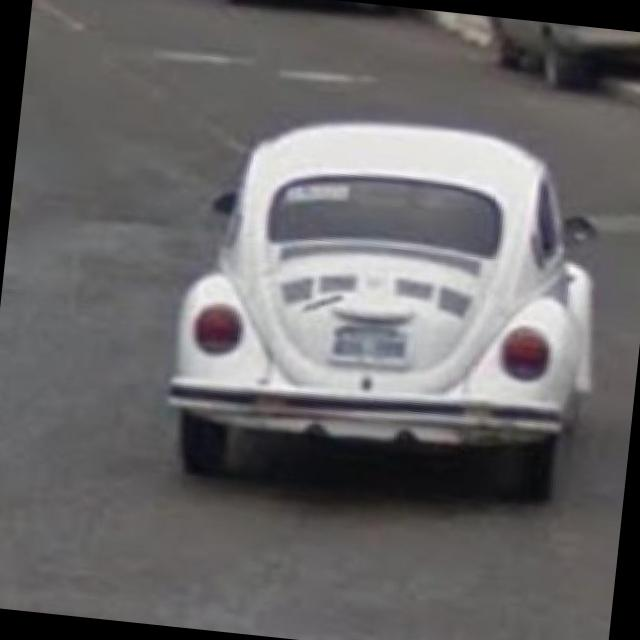car: (160, 110, 612, 514)
